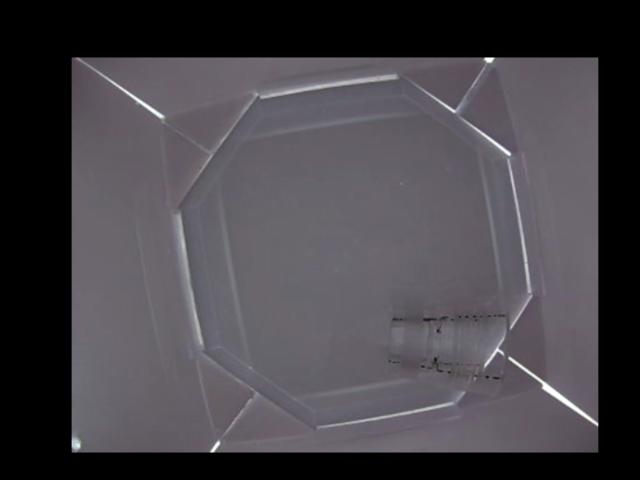Cup: (386, 306, 513, 399)
